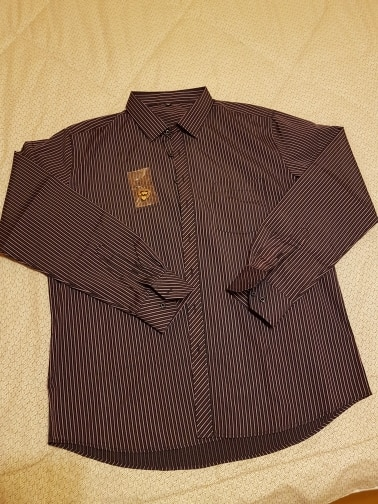shirts: (25, 84, 374, 450)
